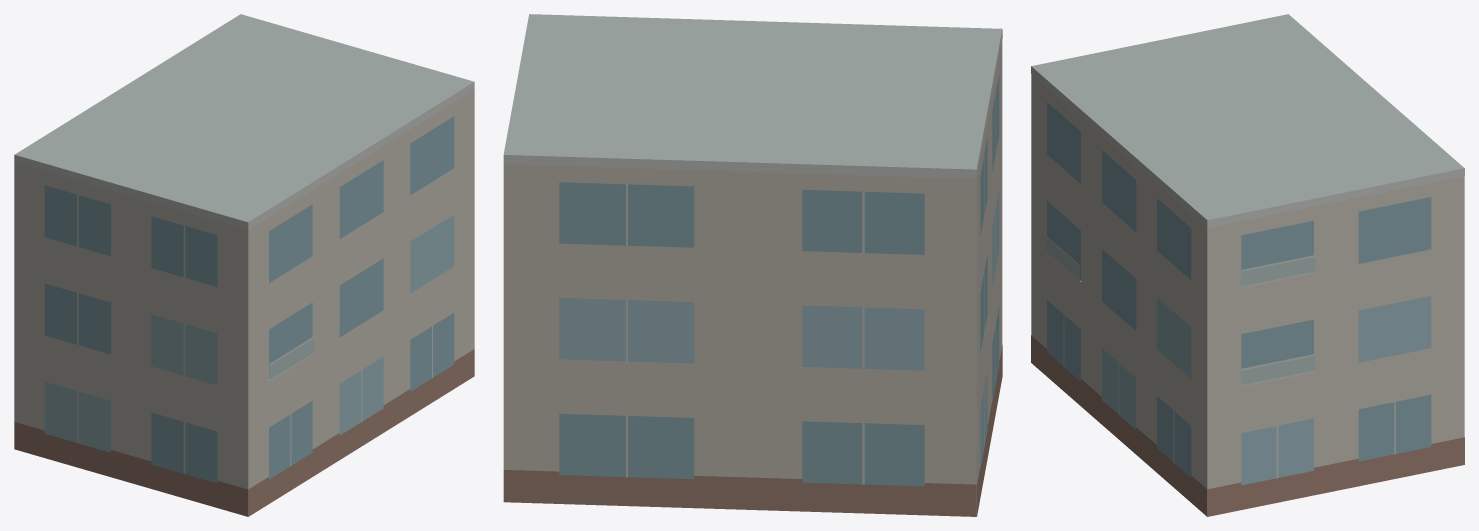
The model's file is survey-upis-32625149.glb.
3 views of the same model, side by side, from view 1: azimuth 30°, elevation 25°; view 2: azimuth 150°, elevation 25°; view 3: azimuth 270°, elevation 25° (orthographic). The views are drawn at different scales.
Parts seen in each view (by area): view 1: survey-upis-32625149.tmp; view 2: survey-upis-32625149.tmp; view 3: survey-upis-32625149.tmp.
Part boxes in pixels (x1,y1,x2,y2): survey-upis-32625149.tmp: (14,14,474,516); survey-upis-32625149.tmp: (503,14,1002,516); survey-upis-32625149.tmp: (1031,14,1464,516).
Size of the model in its own units: 13.66 by 9.15 by 12.14.
